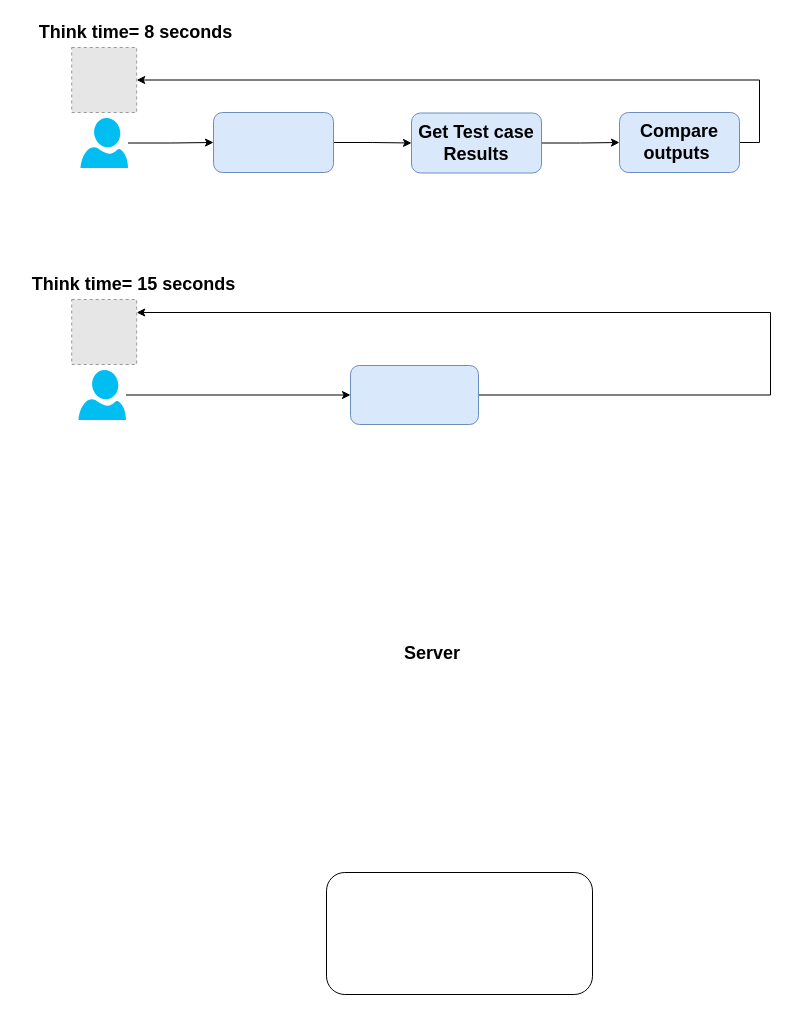
Some shapes in this 796 by 1012 pixel diagram are drawn without their labels. Grey dashed boxes stand in for pictures. Here are the shapes that lost their labels. From the top down, the centre of each, then its label:
At point 273,142: "Run Test cases".
At point 414,394: "Upload Code".
